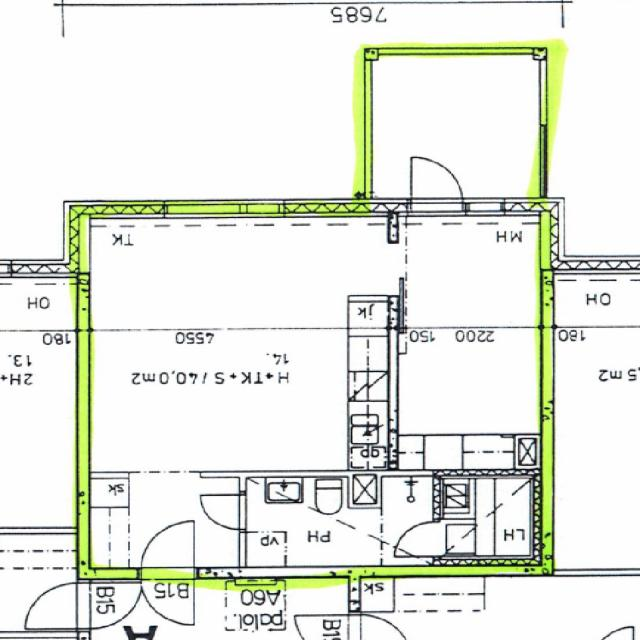door: (411, 155, 462, 219), (142, 519, 194, 578), (142, 566, 194, 625), (393, 522, 443, 557), (200, 494, 248, 530)
